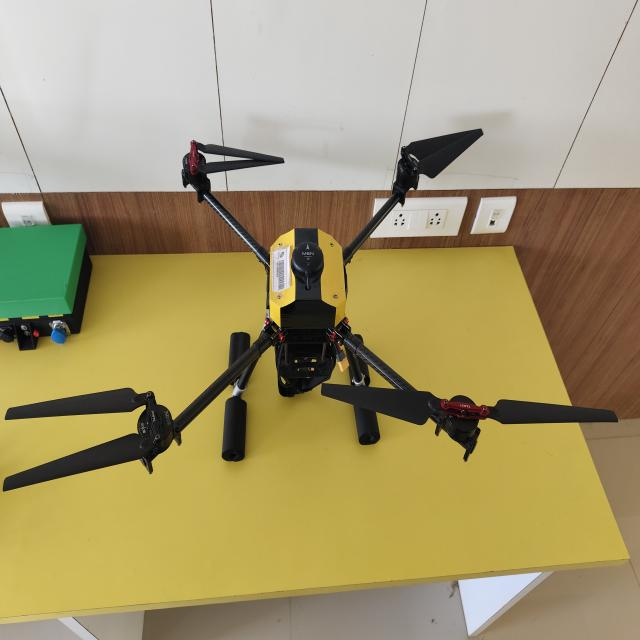quadcopter: (0, 122, 626, 503)
